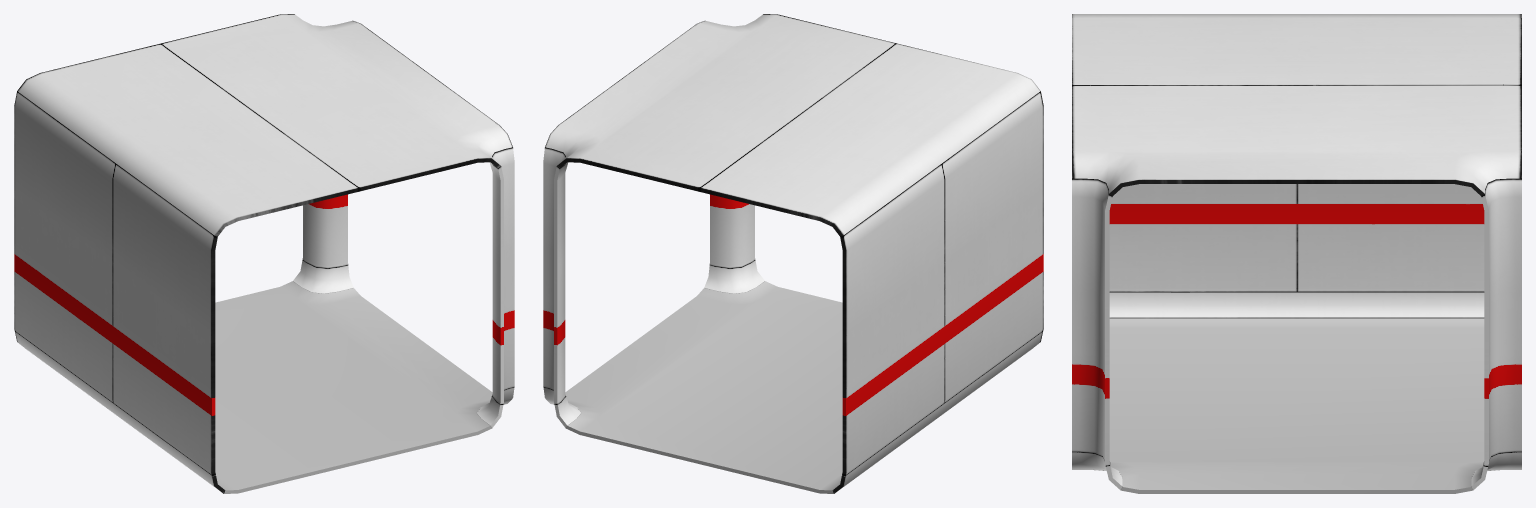
File: HallWay_TIntersection_001.FBX
3 renders of one model, left to right at view 1: azimuth 30°, elevation 25°; view 2: azimuth 150°, elevation 25°; view 3: azimuth 270°, elevation 25°, orthographic. The views are drawn at different scales.
Parts seen in each view (by area): view 1: HallWay_TIntersection_001; view 2: HallWay_TIntersection_001; view 3: HallWay_TIntersection_001.
Part boxes in pixels (left/top/right/bottom): HallWay_TIntersection_001: left=14, top=14, right=514, bottom=493; HallWay_TIntersection_001: left=543, top=14, right=1043, bottom=493; HallWay_TIntersection_001: left=1072, top=14, right=1521, bottom=493.
Size of the model in its own units: 2.78 by 2.31 by 3.
